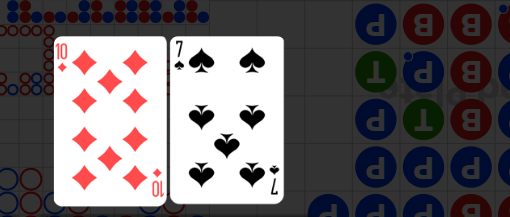10D: (151, 167, 164, 198)
7S: (268, 163, 281, 197)
